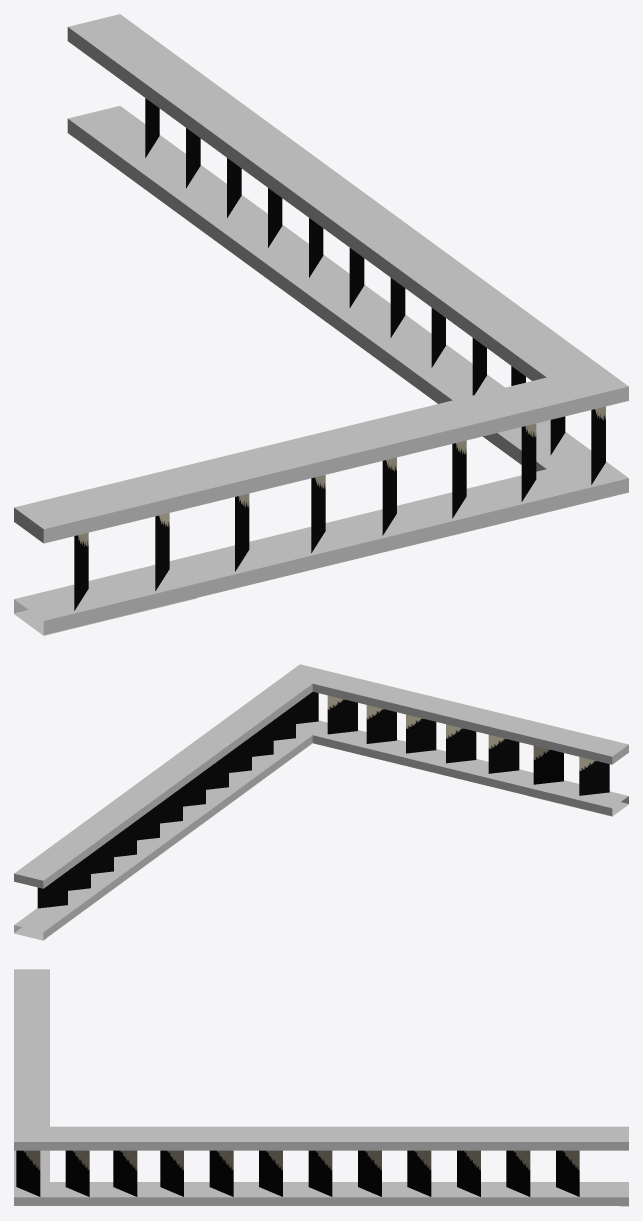
File: K1_oldbalustrade_Anim@refesh.FBX
The picture shows the model from 3 angles, top to bottom: view 1: azimuth 30°, elevation 25°; view 2: azimuth 150°, elevation 25°; view 3: azimuth 270°, elevation 25°; orthographic projection. The views are drawn at different scales.
Parts seen in each view (by area): view 1: oldbalustrade; view 2: oldbalustrade; view 3: oldbalustrade.
Part boxes in pixels (x1,y1,x2,y2): oldbalustrade: [14, 14, 628, 635]; oldbalustrade: [14, 664, 628, 940]; oldbalustrade: [14, 969, 628, 1206].
Size of the model in its own units: 123 by 21.38 by 185.
